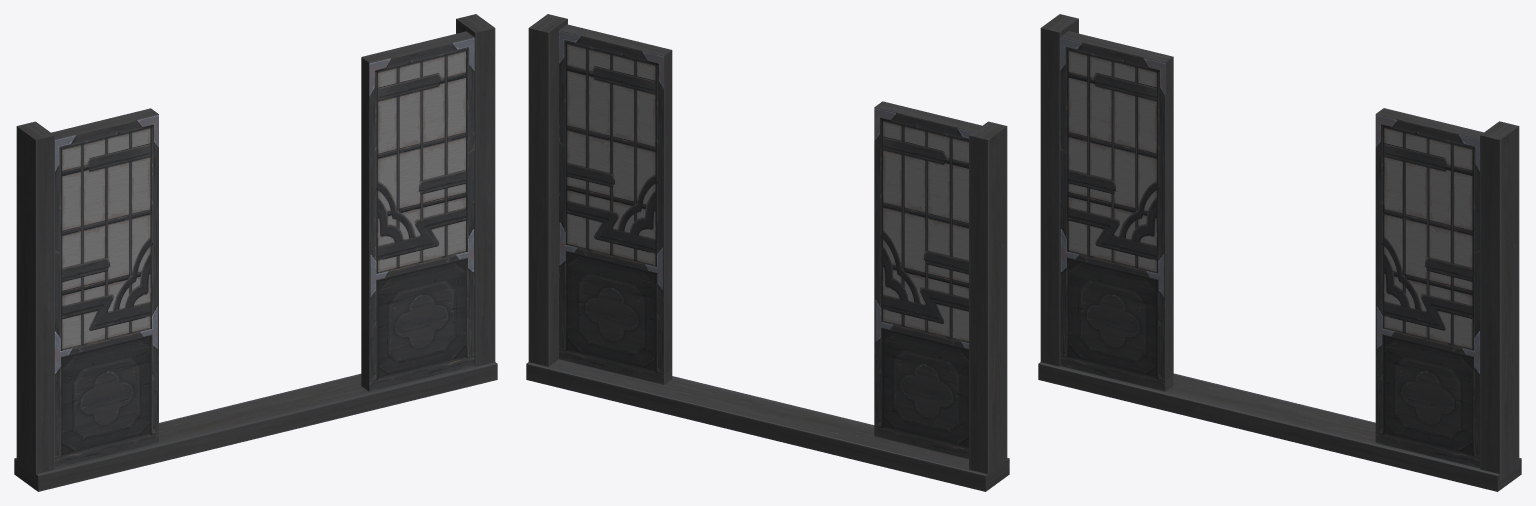
File: Homeworld_Interior_Dq_Room_Door_02_01_Vo.fbx
3 renders of one model, left to right at view 1: azimuth 30°, elevation 25°; view 2: azimuth 150°, elevation 25°; view 3: azimuth 330°, elevation 25°, orthographic.
Parts seen in each view (by area): view 1: Homeworld_Interior_Dq_Room_Door_02_01_Vo; view 2: Homeworld_Interior_Dq_Room_Door_02_01_Vo; view 3: Homeworld_Interior_Dq_Room_Door_02_01_Vo.
Part boxes in pixels (box(x1,y1,x2,y2)): Homeworld_Interior_Dq_Room_Door_02_01_Vo: box(14, 14, 497, 491); Homeworld_Interior_Dq_Room_Door_02_01_Vo: box(526, 14, 1009, 491); Homeworld_Interior_Dq_Room_Door_02_01_Vo: box(1038, 14, 1521, 491).
Bounding box in the file's own units: 4.85 × 3.53 × 0.44.
